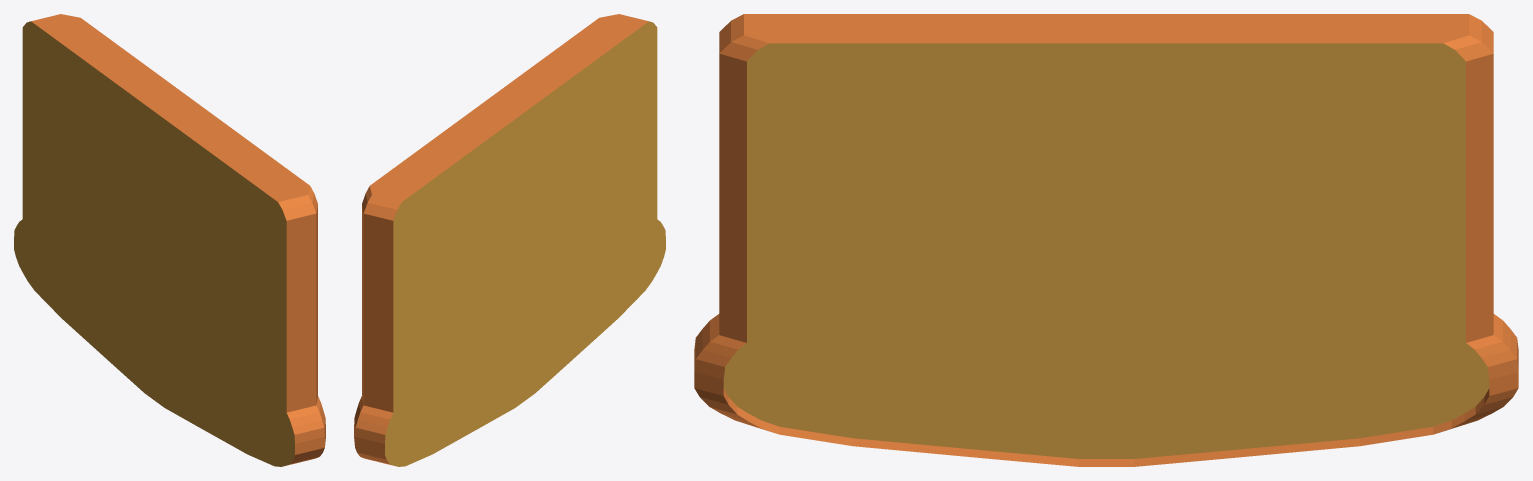
Rendered from bread.glb.
3 renders of one model, left to right at view 1: azimuth 30°, elevation 25°; view 2: azimuth 150°, elevation 25°; view 3: azimuth 270°, elevation 25°, orthographic. The views are drawn at different scales.
Parts seen in each view (by area): view 1: Bread; view 2: Bread; view 3: Bread.
Part boxes in pixels (<box>): Bread: <box>14,14,325,466</box>; Bread: <box>354,14,665,466</box>; Bread: <box>694,14,1518,466</box>.
Bounding box in the file's own units: 0.0265 × 0.1789 × 0.3154.
